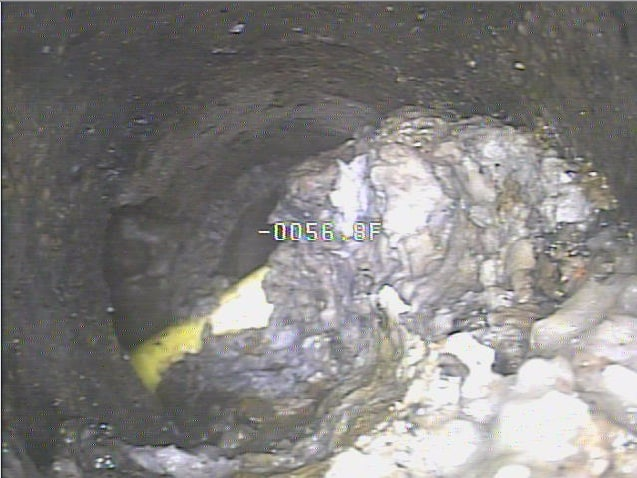cb: (104, 248, 306, 400)
